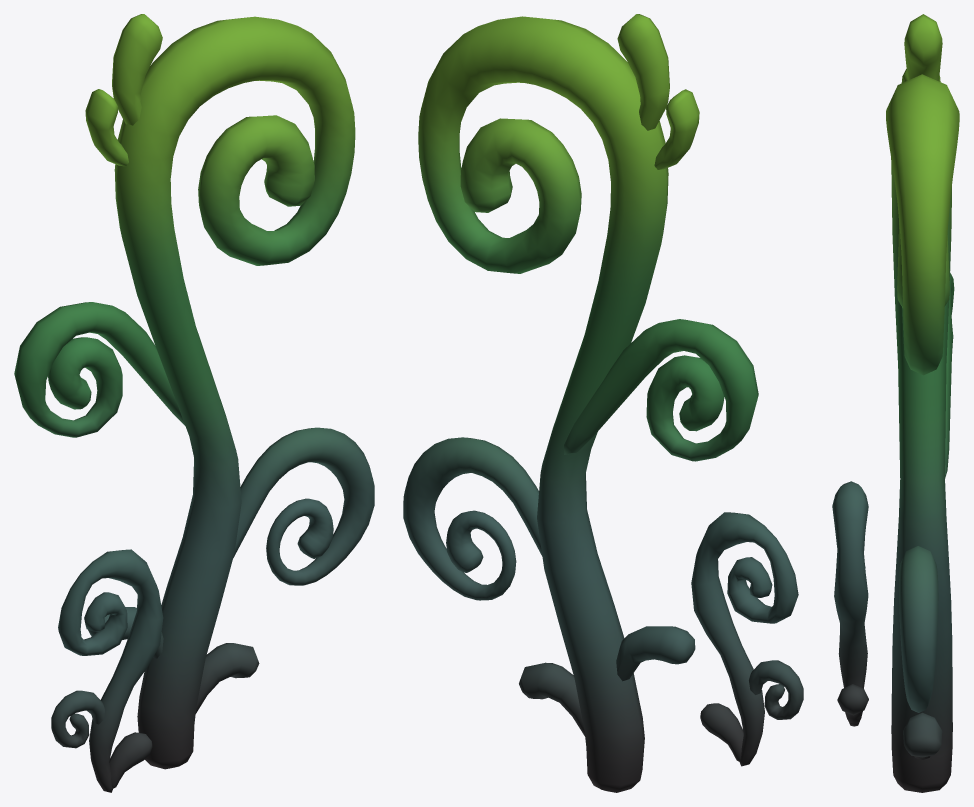
File: Plants_021.fbx
3 renders of one model, left to right at view 1: azimuth 30°, elevation 25°; view 2: azimuth 150°, elevation 25°; view 3: azimuth 270°, elevation 25°, orthographic. The views are drawn at different scales.
Parts seen in each view (by area): view 1: Plants.021; view 2: Plants.021; view 3: Plants.021.
Boxes of the visible parts, x1,y1,x2,y2 form: Plants.021: (14,14,374,792); Plants.021: (403,14,803,792); Plants.021: (832,14,959,792).
Bounding box in the file's own units: 394 × 804 × 122.
